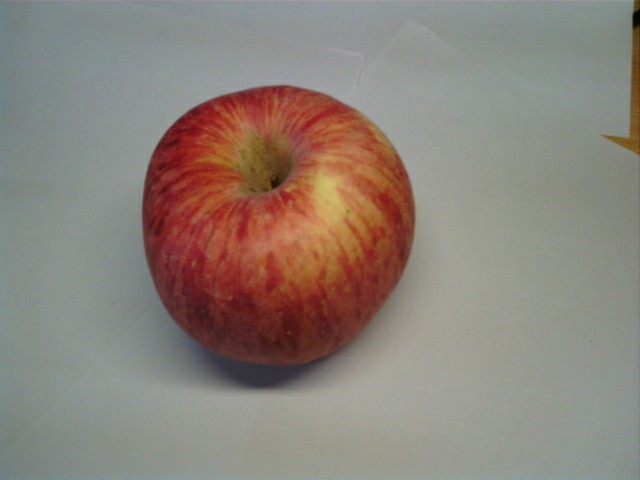normal_apple: (141, 84, 417, 369)
